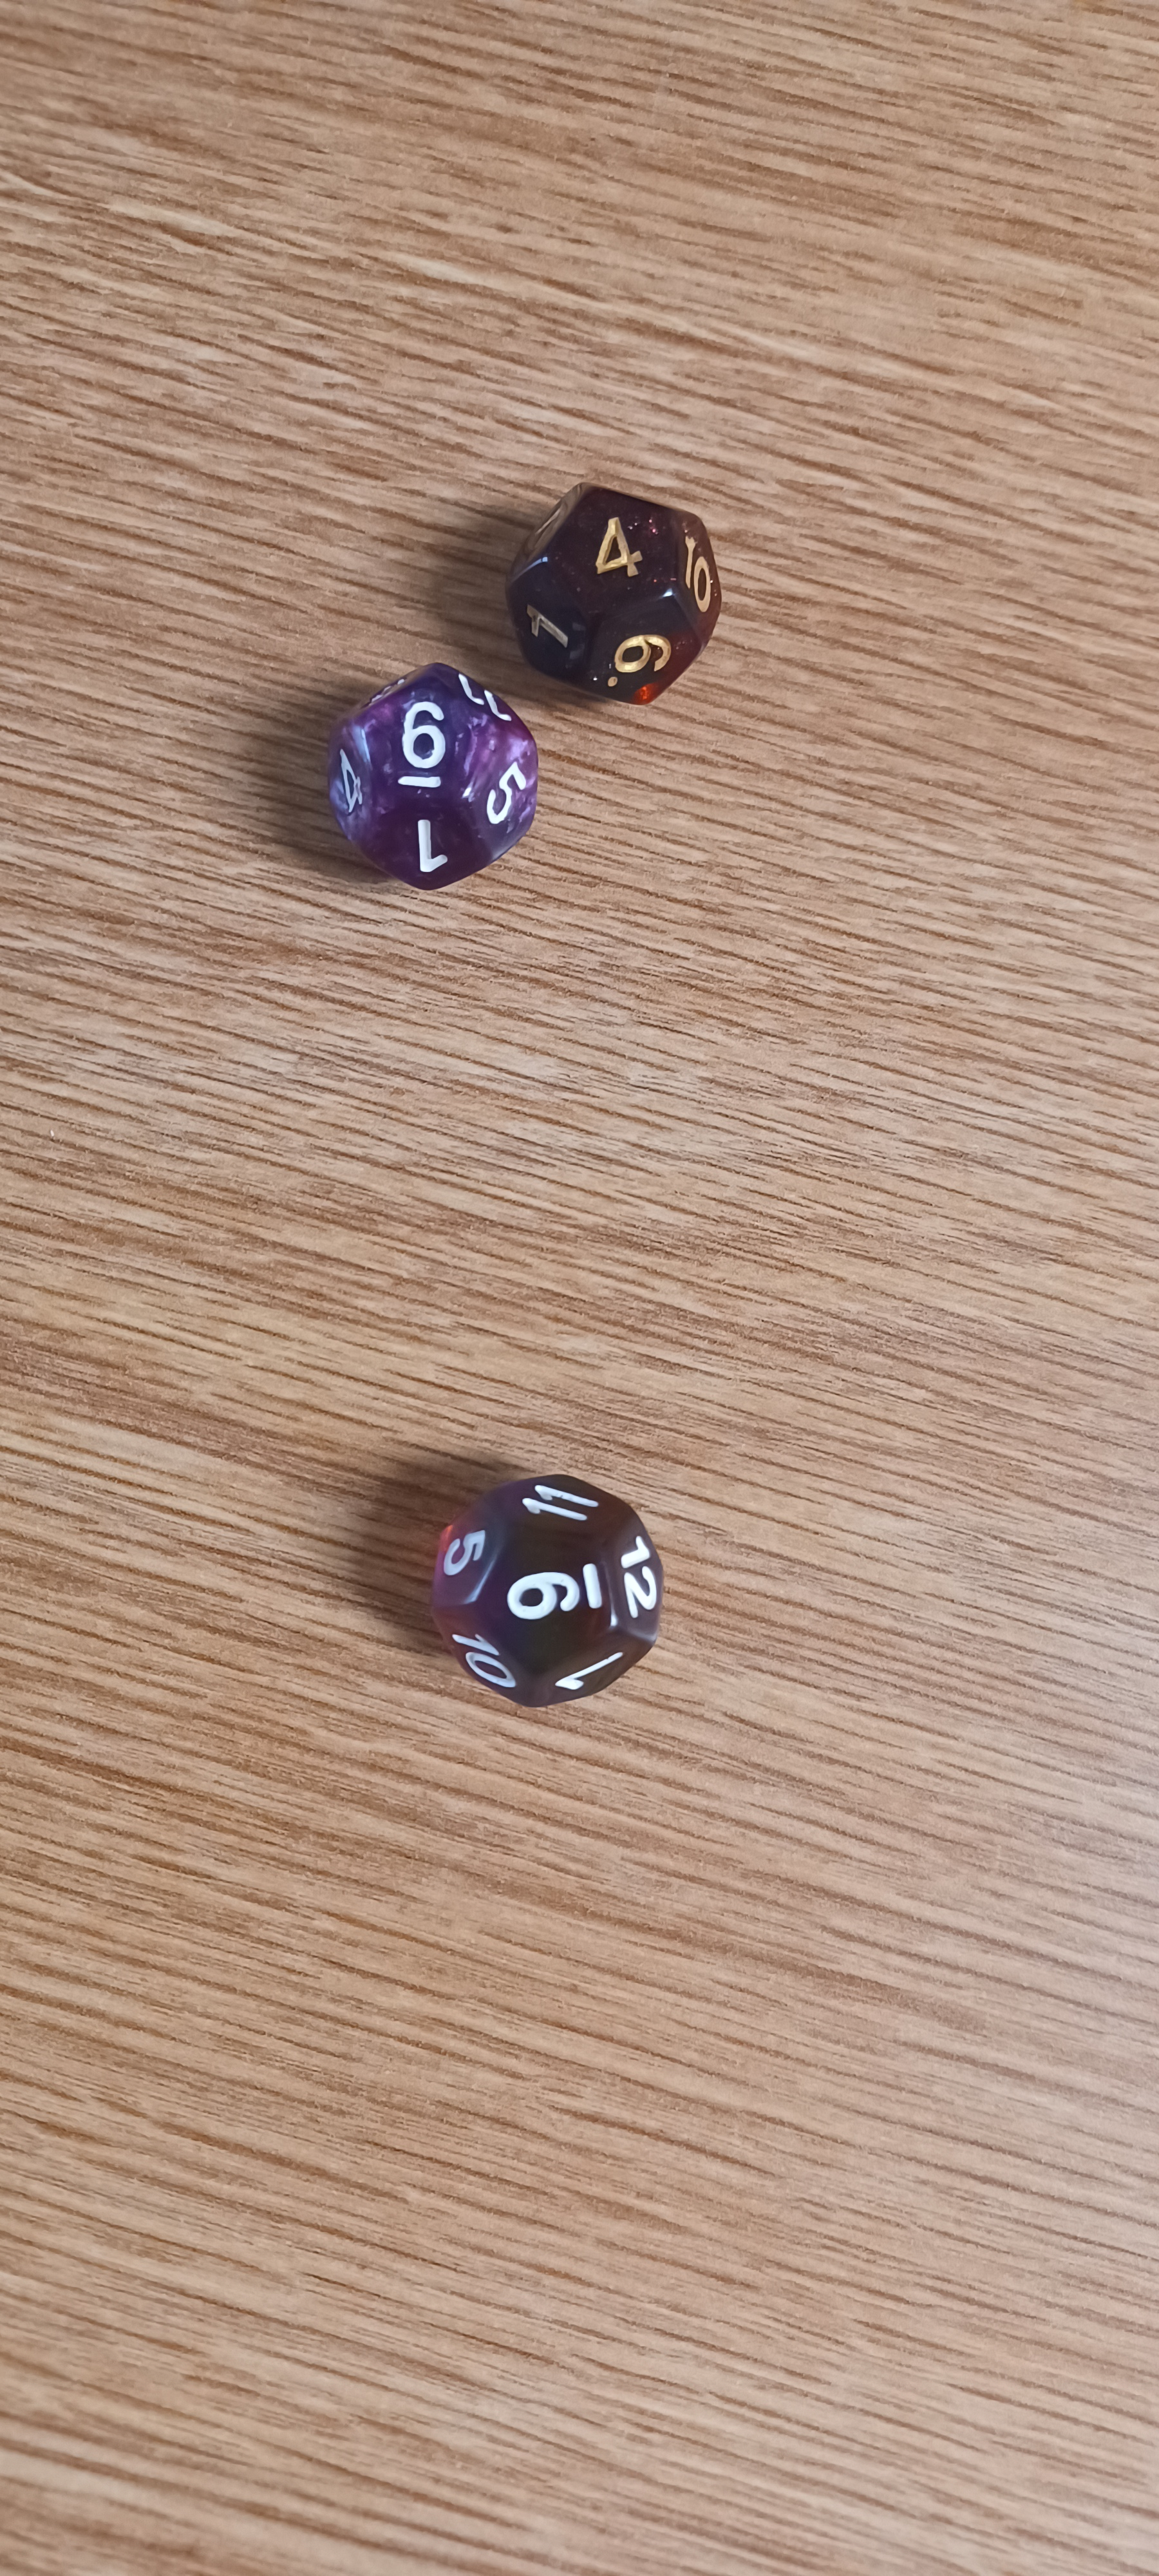four: (478, 453, 776, 720)
nine: (373, 1419, 745, 1763)
six: (300, 641, 570, 912)
